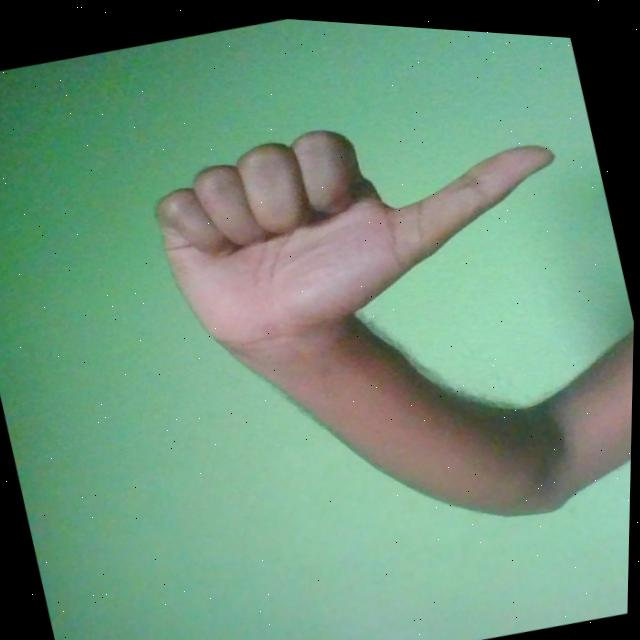Dislike: (138, 62, 592, 381)
